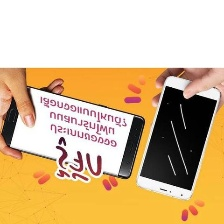phone: (0, 81, 148, 181), (134, 73, 223, 202)
